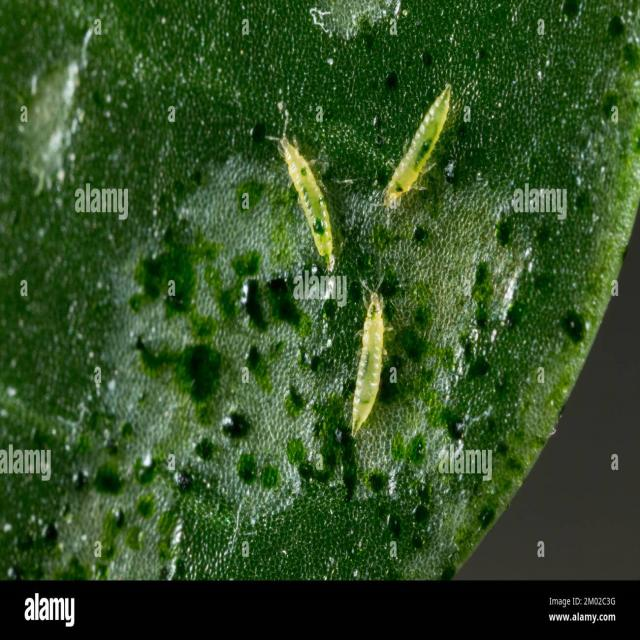Thrip-Larva-: (379, 71, 457, 219), (270, 116, 340, 272), (344, 263, 399, 451)
